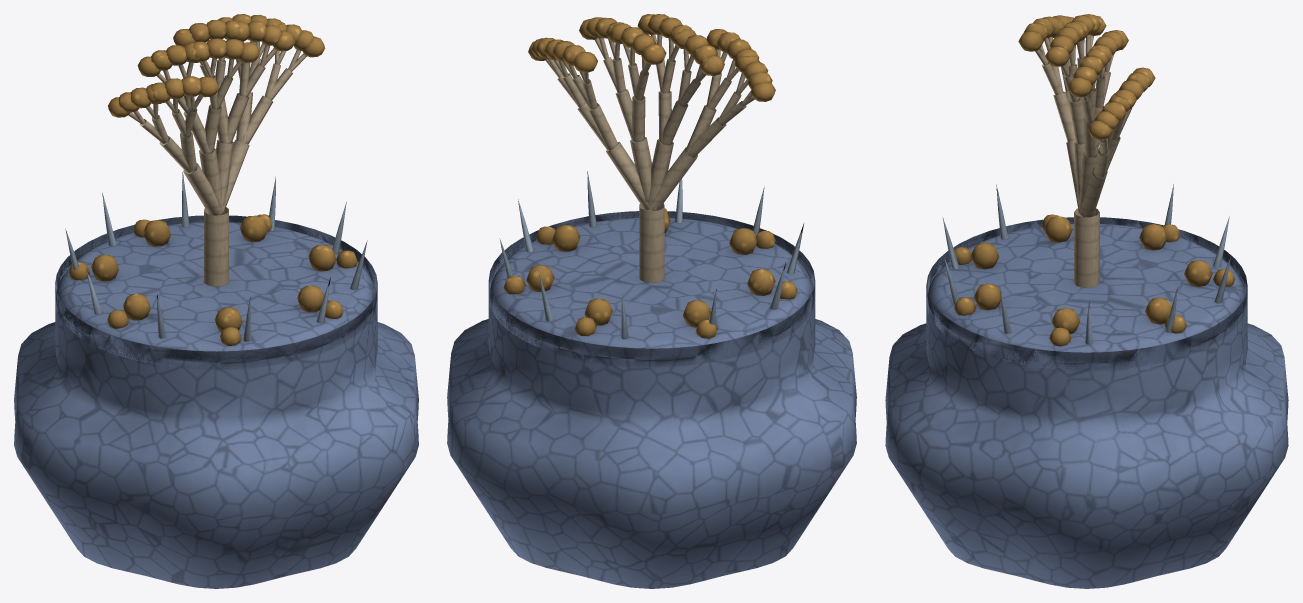
The model's file is landmark_fan.glb.
3 renders of one model, left to right at view 1: azimuth 30°, elevation 25°; view 2: azimuth 150°, elevation 25°; view 3: azimuth 270°, elevation 25°, orthographic.
Parts seen in each view (by area): view 1: LandmarkFan, Growth_Beads, Growth_Needles; view 2: LandmarkFan, Growth_Beads, Growth_Needles; view 3: LandmarkFan, Growth_Beads, Growth_Needles.
Part boxes in pixels (box(x1,y1,x2,y2)): LandmarkFan: box(14, 14, 418, 588); Growth_Beads: box(69, 214, 357, 345); Growth_Needles: box(65, 172, 367, 341); LandmarkFan: box(447, 14, 856, 588); Growth_Beads: box(503, 208, 797, 338); Growth_Needles: box(499, 171, 803, 339); LandmarkFan: box(885, 14, 1288, 588); Growth_Beads: box(954, 214, 1235, 346); Growth_Needles: box(942, 184, 1230, 344).
Bounding box in the file's own units: 5.41 × 6.97 × 5.02.
Materials: 4 (4 with a texture image).
